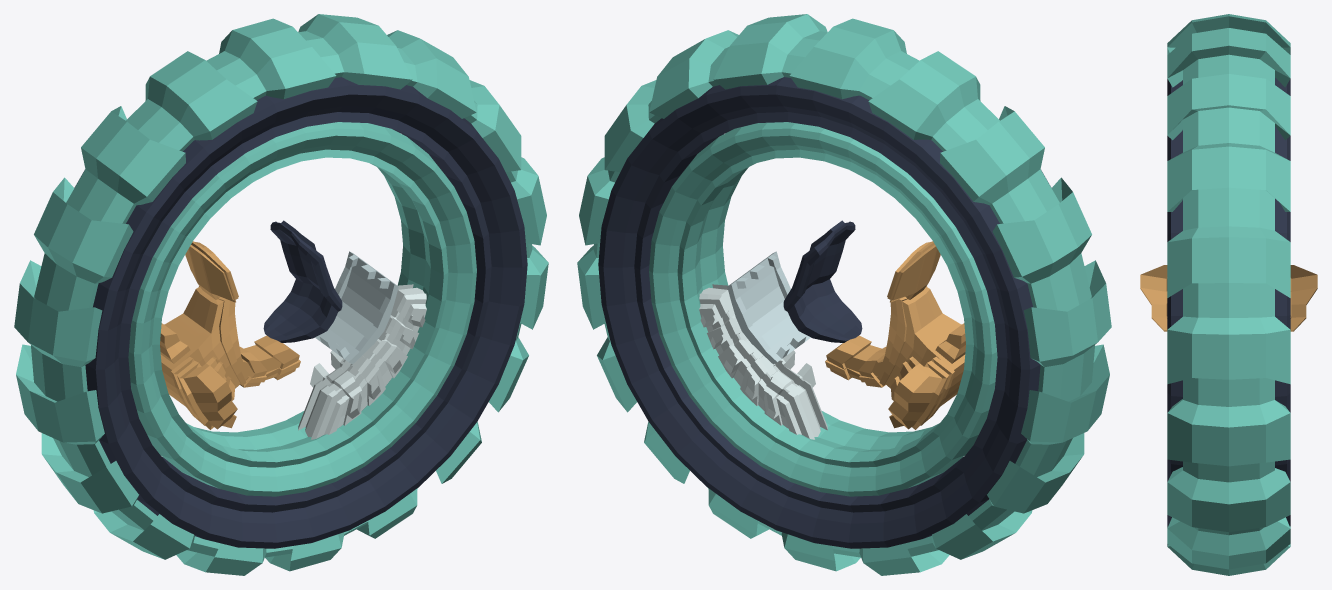
The model's file is gyrace-monowheel.glb.
The picture shows the model from 3 angles, left to right: view 1: azimuth 30°, elevation 25°; view 2: azimuth 150°, elevation 25°; view 3: azimuth 270°, elevation 25°; orthographic projection. The views are drawn at different scales.
Visible parts, largest first — view 1: Tire_static, Wheel_static, Inner Ring_static, Pod_static, Motor_static, Chair_static, Pane_static; view 2: Tire_static, Wheel_static, Inner Ring_static, Pod_static, Motor_static, Chair_static, Pane_static; view 3: Tire_static, Wheel_static, Pod_static.
Part boxes in pixels (<box>): Tire_static: <box>14,14,548,575</box>; Wheel_static: <box>74,77,527,548</box>; Inner Ring_static: <box>128,122,476,496</box>; Pod_static: <box>160,241,300,429</box>; Motor_static: <box>298,284,426,439</box>; Chair_static: <box>263,220,342,342</box>; Pane_static: <box>315,251,398,364</box>; Tire_static: <box>577,14,1111,575</box>; Wheel_static: <box>598,77,1051,548</box>; Inner Ring_static: <box>649,122,997,496</box>; Pod_static: <box>825,241,965,429</box>; Motor_static: <box>699,284,827,439</box>; Chair_static: <box>783,220,862,342</box>; Pane_static: <box>727,251,810,364</box>; Tire_static: <box>1167,14,1290,575</box>; Wheel_static: <box>1167,78,1290,526</box>; Pod_static: <box>1140,265,1317,331</box>.
Size of the model in its own units: 2.4 by 2.4 by 0.7568.
